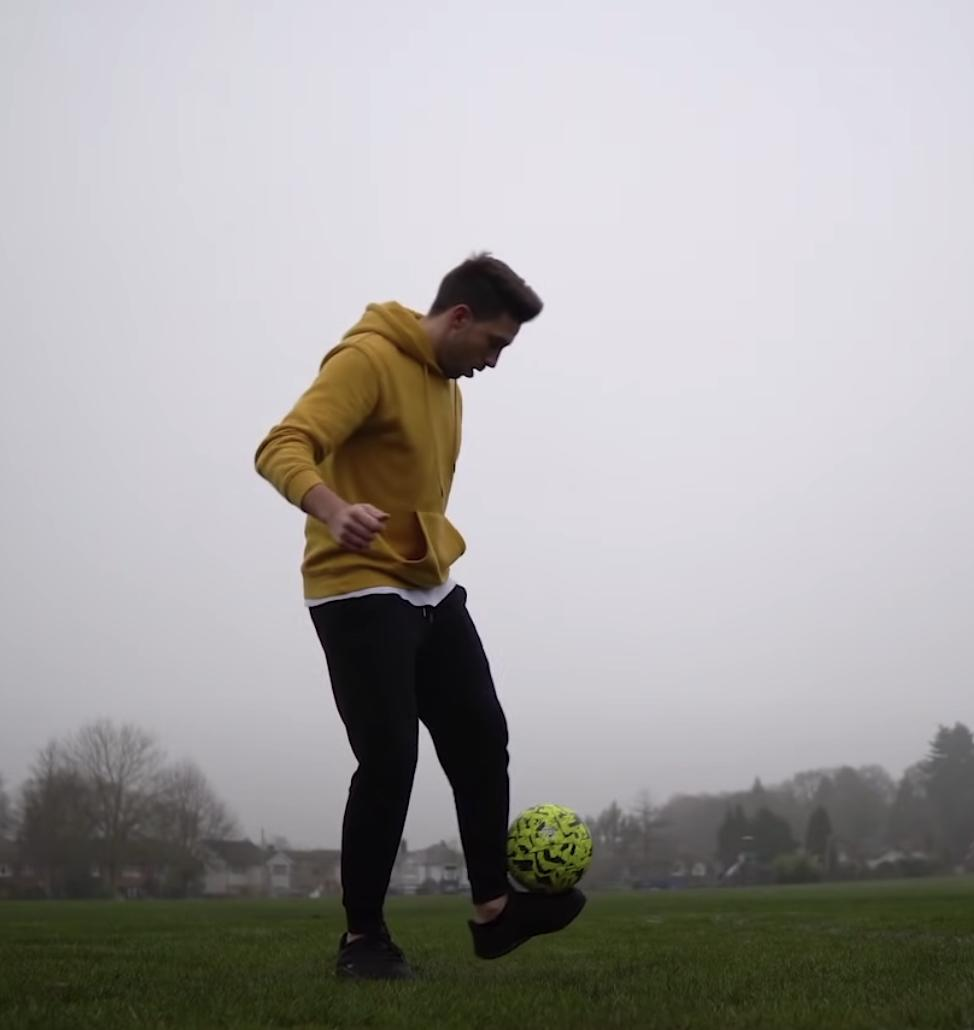ball: (505, 803, 591, 893)
foot: (471, 884, 588, 964), (332, 931, 414, 987)
person: (244, 257, 560, 986)
